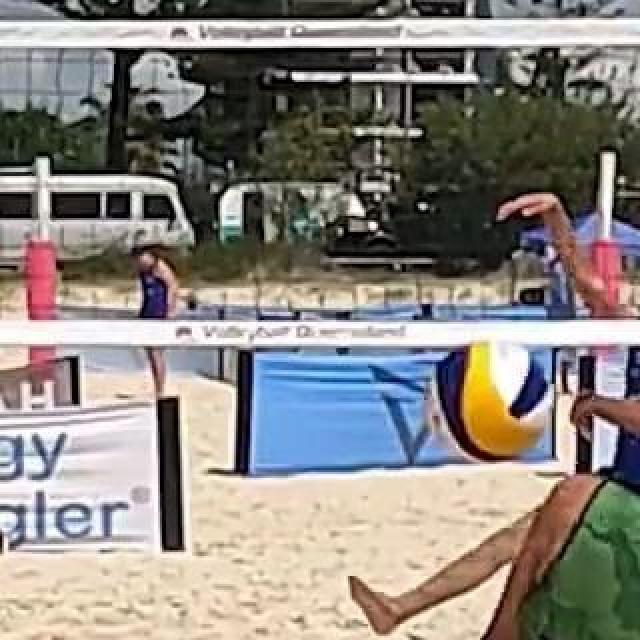volleyball: (439, 338, 555, 460)
